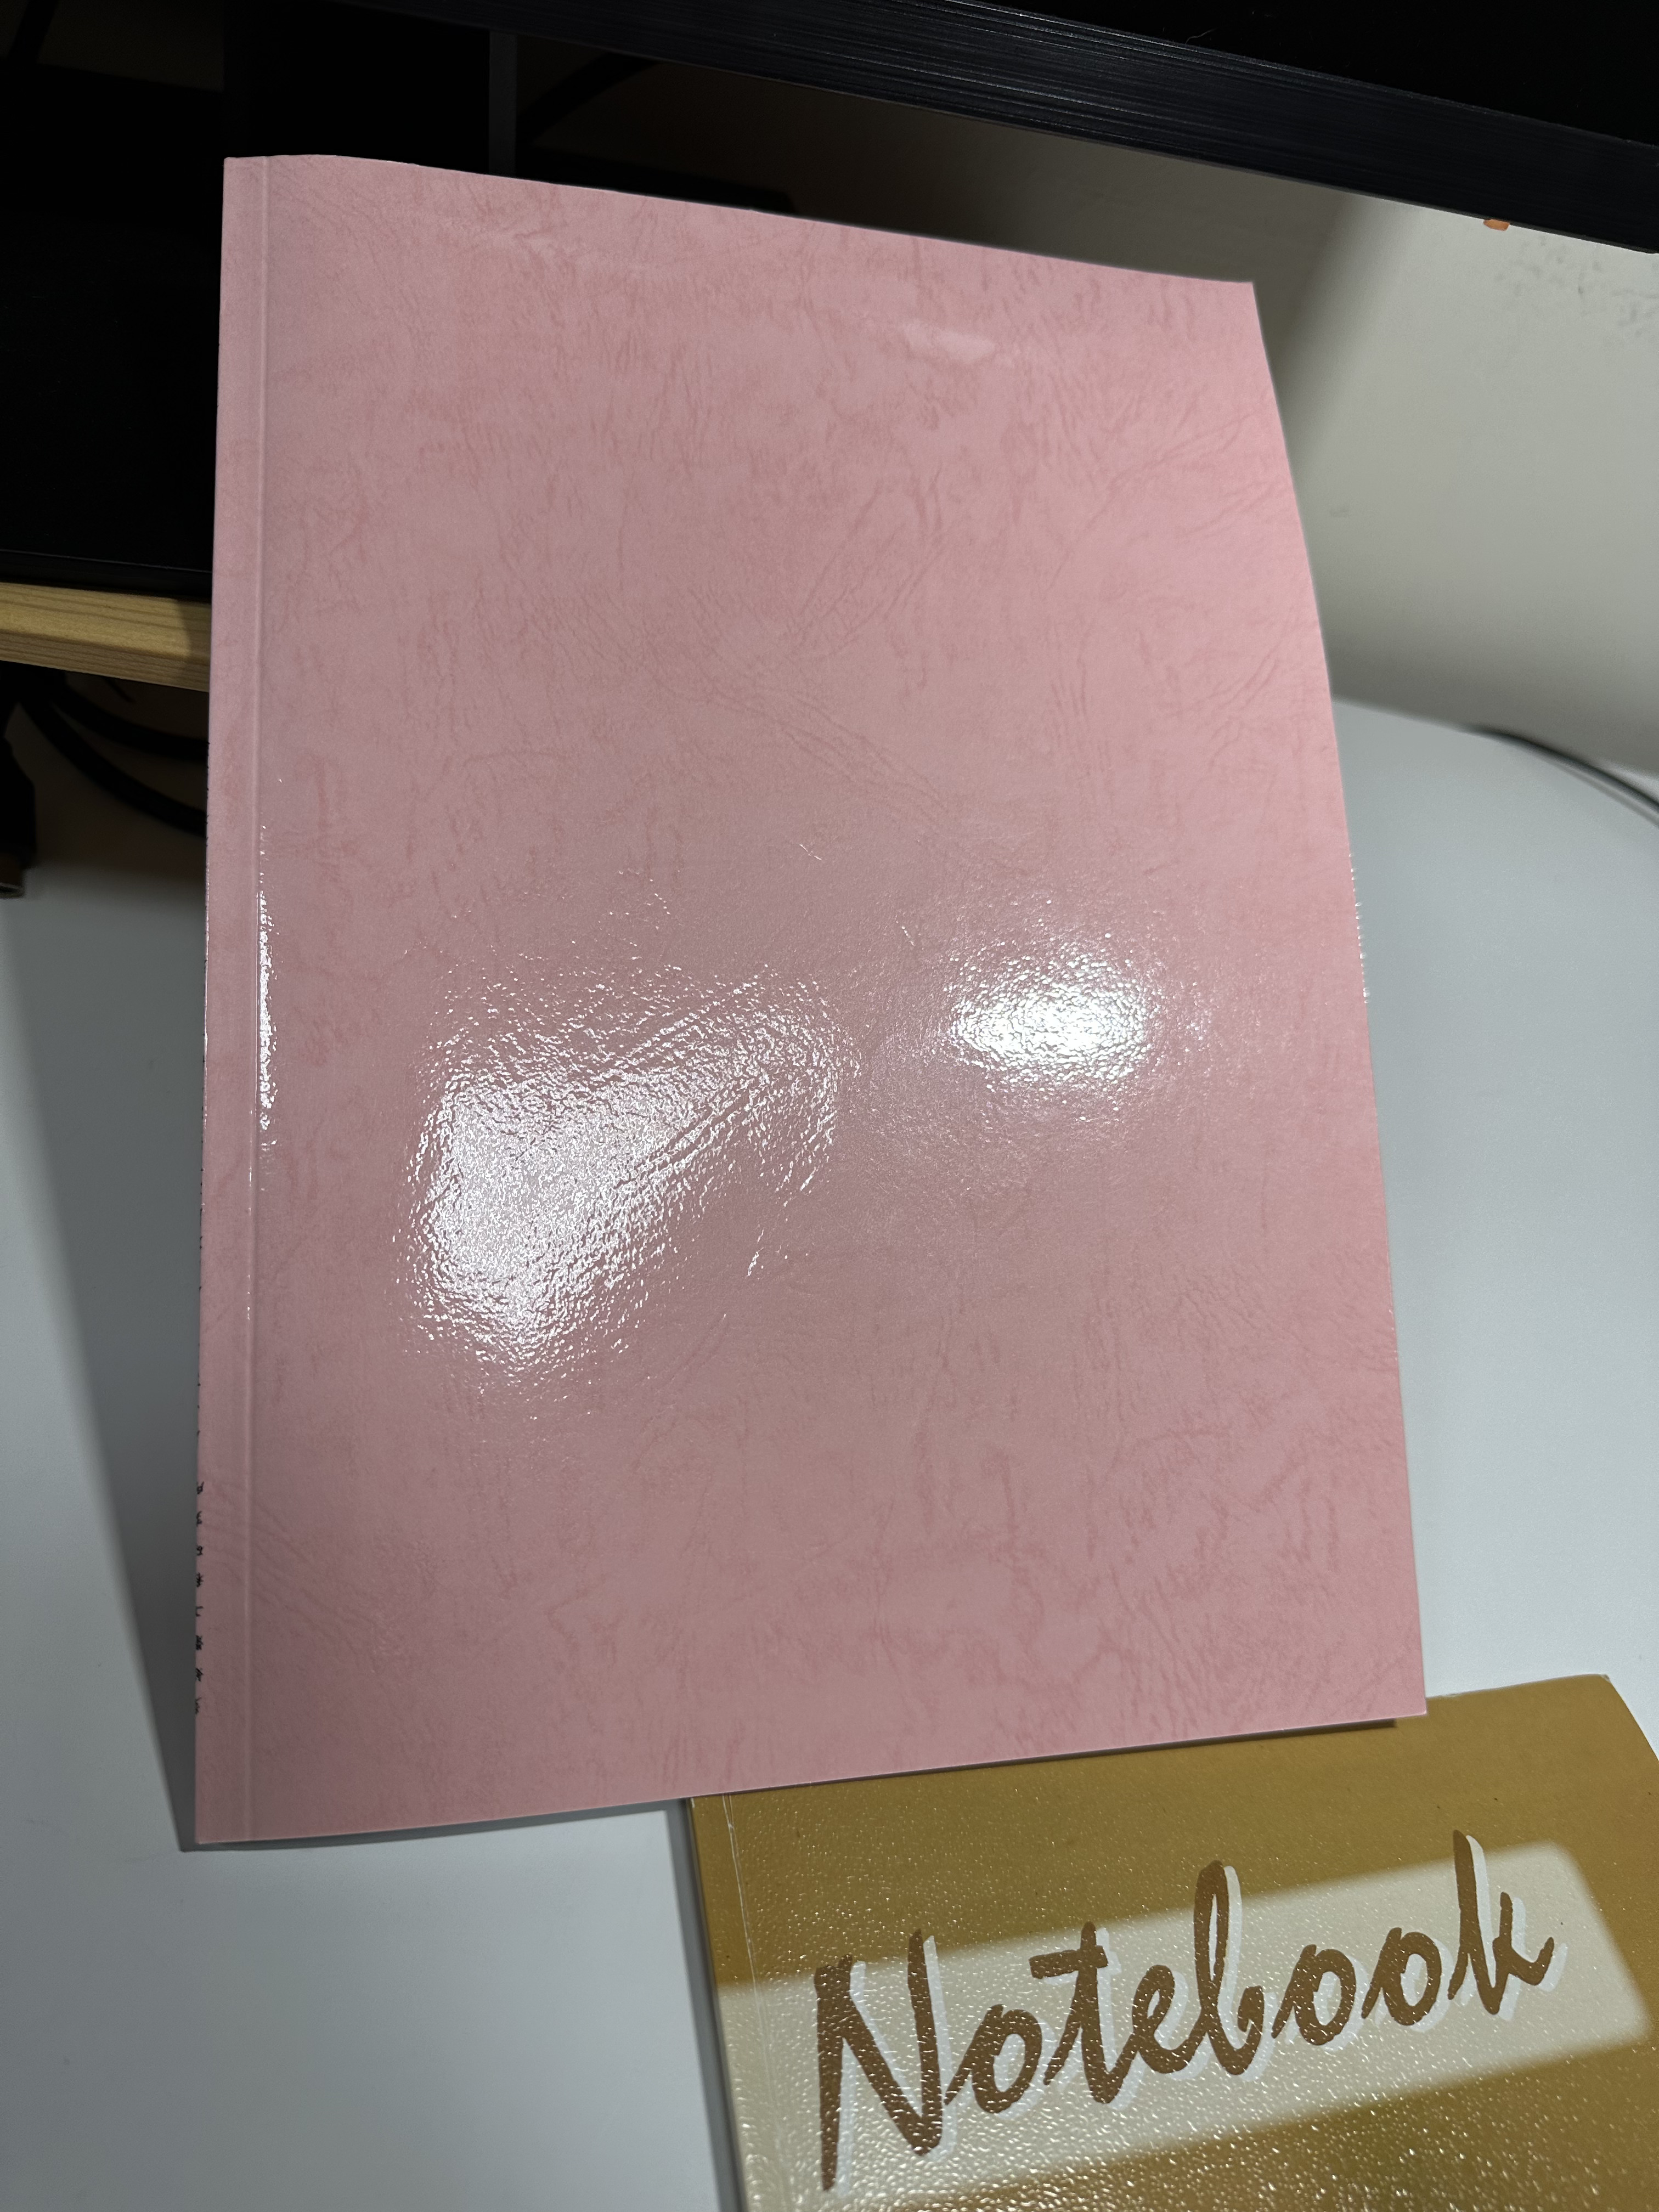book: (188, 146, 1438, 1853)
